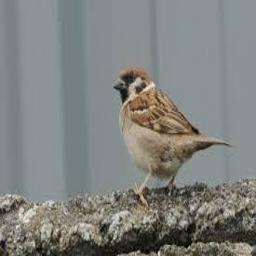Sparrow: (113, 67, 234, 205)
